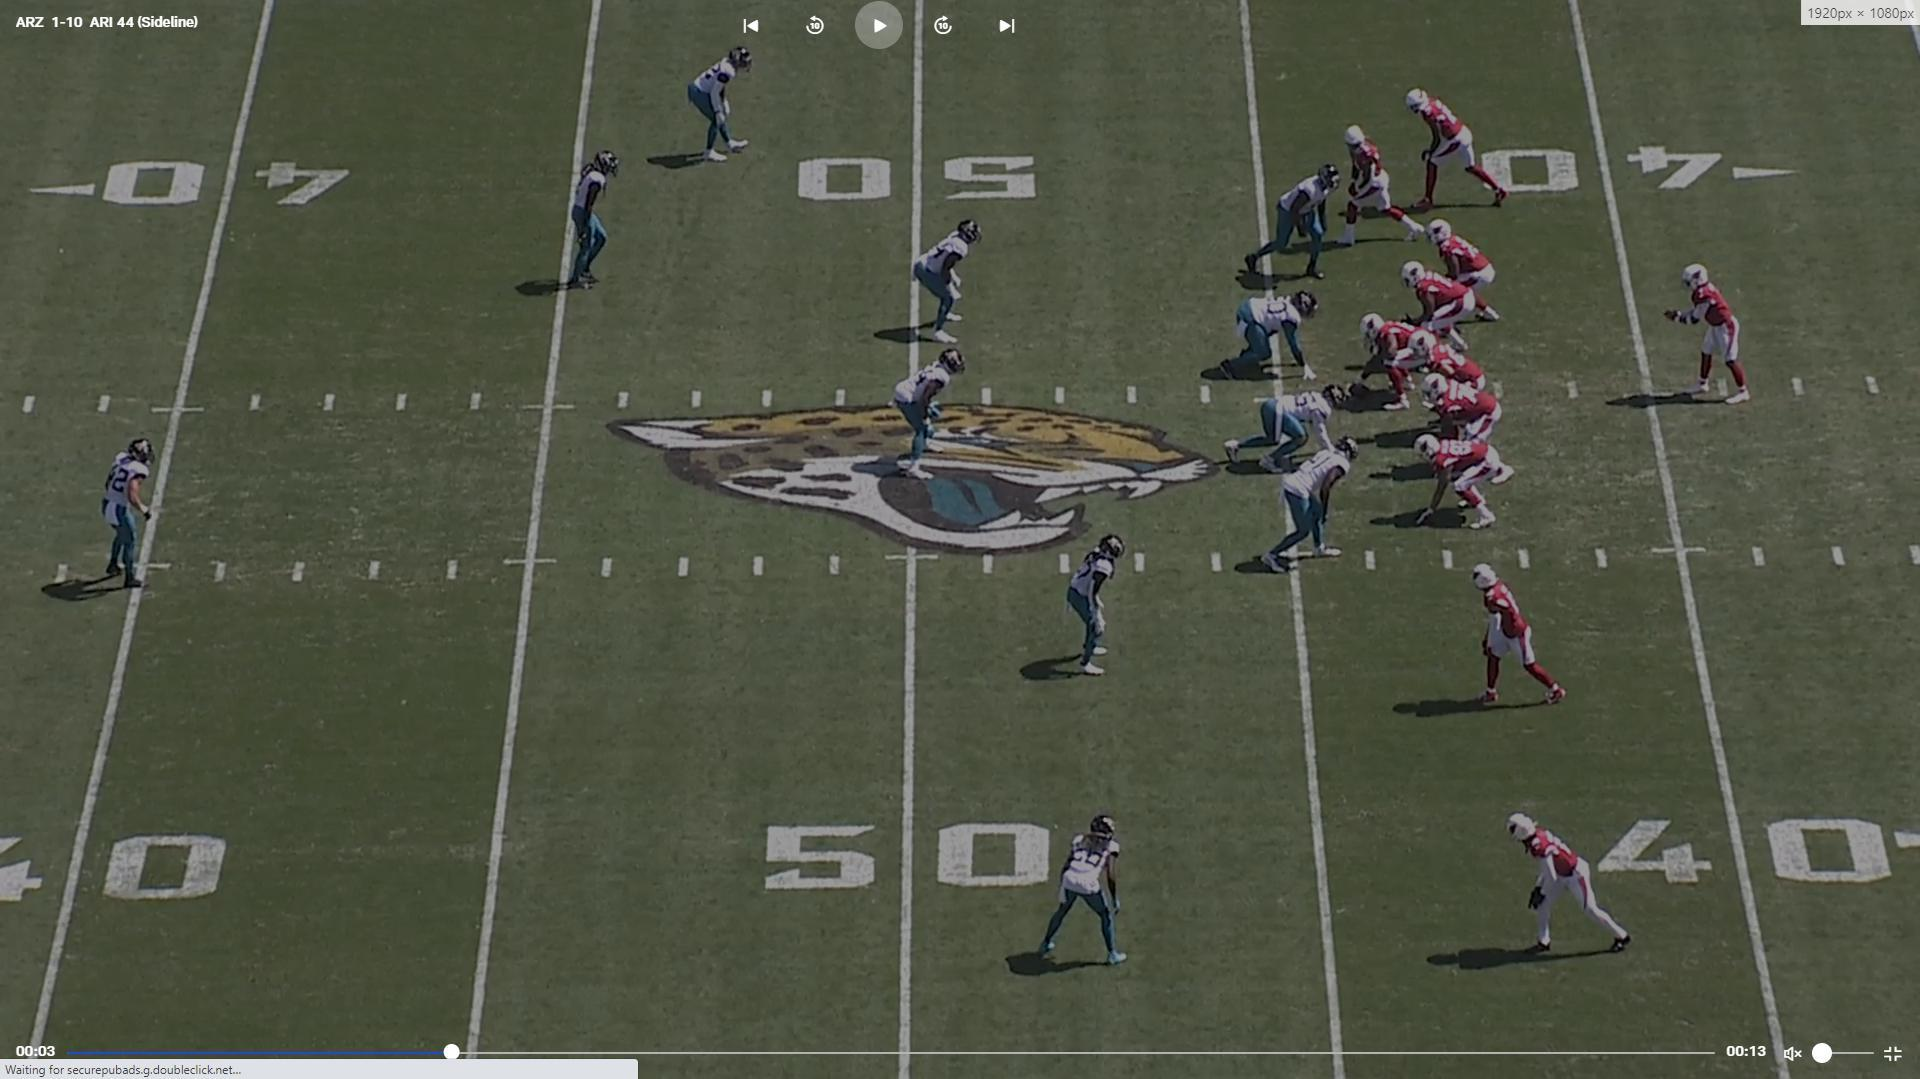player: (1005, 812, 1140, 985), (1496, 804, 1641, 965), (1465, 566, 1572, 717), (1405, 85, 1516, 213), (1234, 164, 1346, 290), (1261, 436, 1357, 569), (1673, 259, 1756, 405), (1218, 378, 1345, 473), (1208, 289, 1326, 391), (88, 435, 156, 597), (1337, 121, 1422, 246), (1420, 372, 1513, 486), (1416, 431, 1518, 534), (1063, 532, 1129, 685), (559, 142, 625, 295), (915, 219, 984, 355), (896, 350, 966, 478), (1429, 217, 1508, 329), (691, 40, 760, 166), (1352, 311, 1434, 412), (1397, 259, 1476, 349), (1420, 338, 1493, 433)
